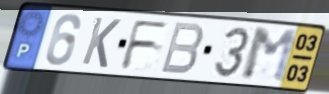3: (210, 25, 253, 80)
6: (44, 13, 81, 68)
B: (158, 20, 206, 77)
F: (118, 18, 172, 71)
K: (79, 15, 123, 70)
M: (240, 27, 300, 85)
